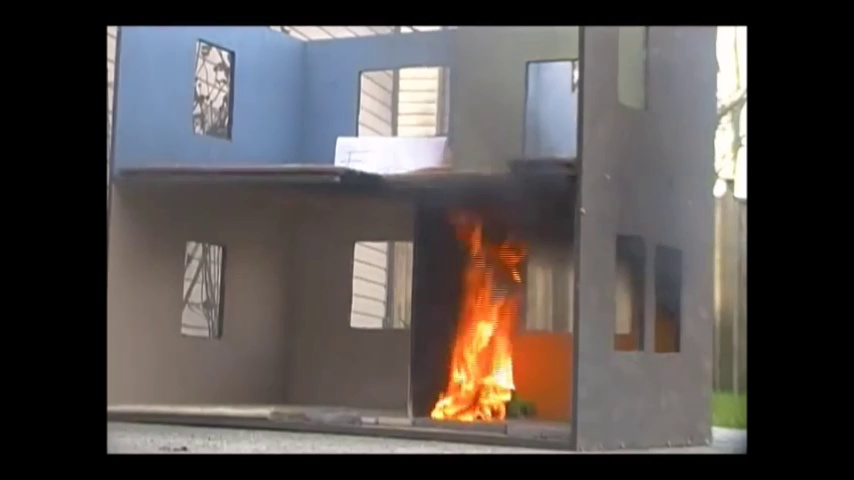fire: (434, 254, 512, 423)
